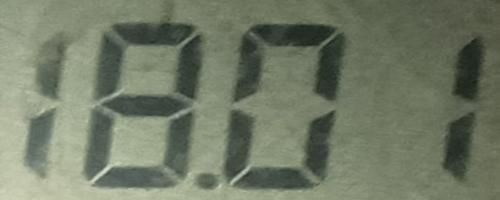.: (194, 169, 226, 193)
